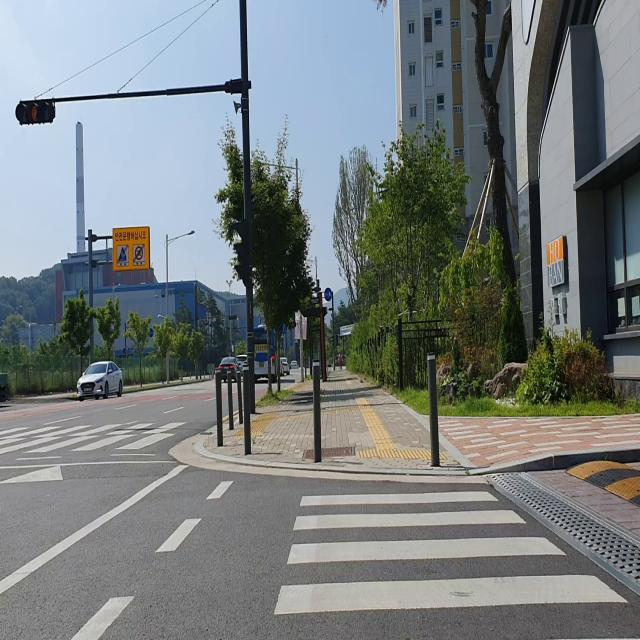횡단보도: (272, 489, 629, 617), (0, 420, 190, 452)
